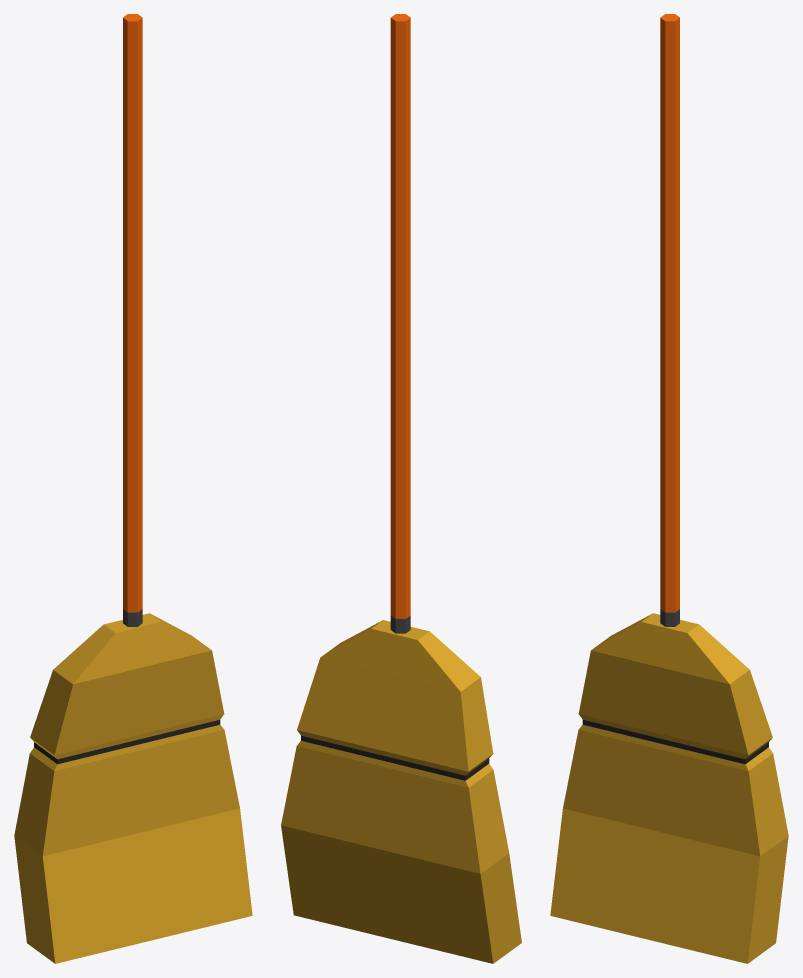
Rendered from Broom.fbx.
3 renders of one model, left to right at view 1: azimuth 30°, elevation 25°; view 2: azimuth 150°, elevation 25°; view 3: azimuth 330°, elevation 25°, orthographic.
Parts seen in each view (by area): view 1: Broom; view 2: Broom; view 3: Broom.
Part boxes in pixels (x1=…): Broom: x1=14, y1=14, x2=252, y2=963; Broom: x1=281, y1=14, x2=521, y2=963; Broom: x1=550, y1=14, x2=788, y2=963.
Size of the model in its own units: 26.45 by 116 by 9.52.
